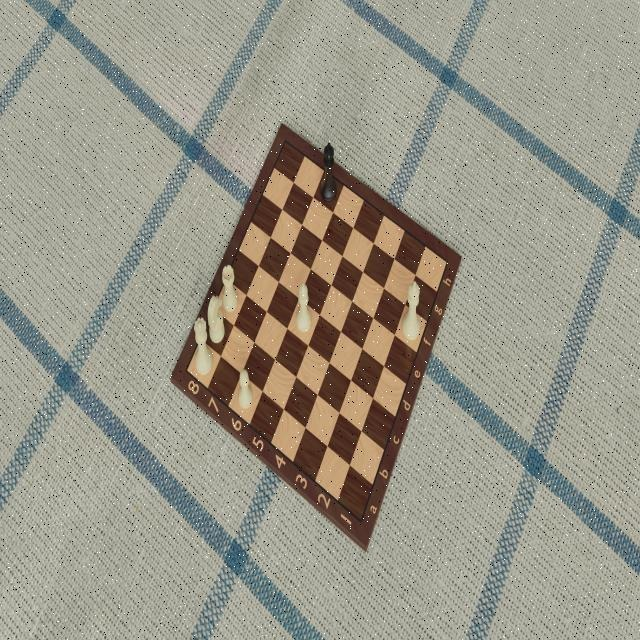black-king: (318, 141, 337, 205)
white-bishop: (294, 281, 313, 334)
white-king: (401, 280, 423, 344)
white-knight: (208, 294, 228, 344)
white-pawn: (236, 365, 255, 415)
white-queen: (194, 316, 214, 377)
white-rook: (219, 261, 238, 315)
